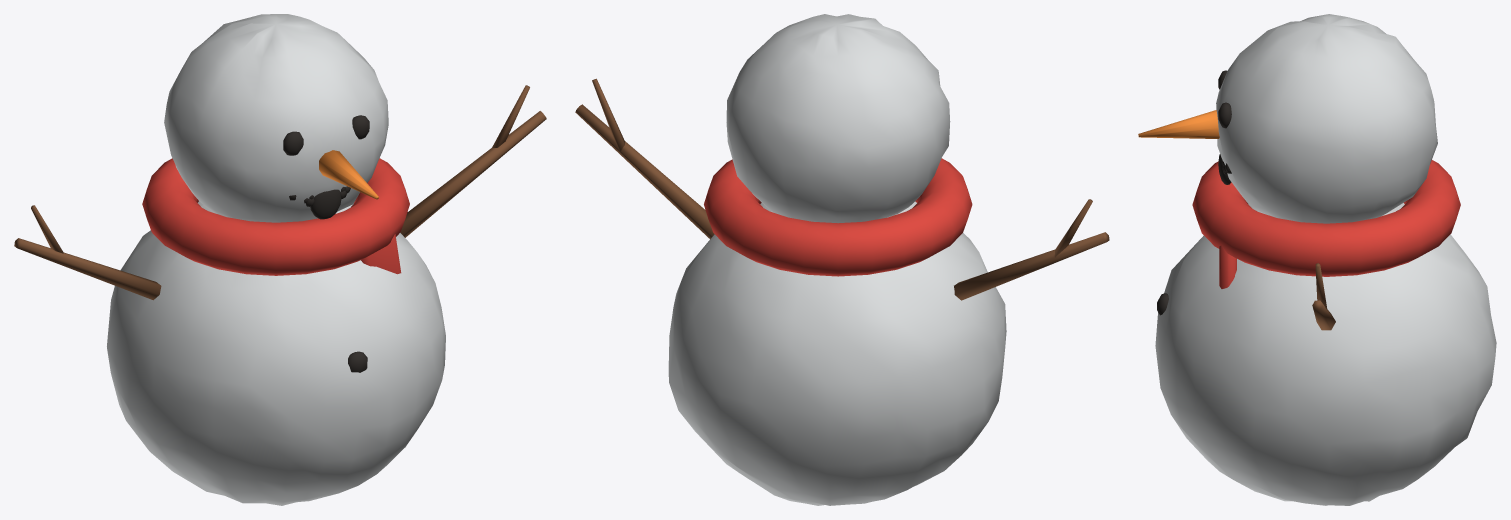
File: event-snowman.glb
3 renders of one model, left to right at view 1: azimuth 30°, elevation 25°; view 2: azimuth 150°, elevation 25°; view 3: azimuth 270°, elevation 25°, orthographic.
Parts seen in each view (by area): view 1: body, head, opt_face_wow; view 2: body, head; view 3: body, head.
Boxes of the visible parts, x1,y1,x2,y2 form: body: (14,85,546,505); head: (142,14,409,275); opt_face_wow: (310,189,341,219); body: (575,78,1109,505); head: (704,14,972,276); body: (1155,203,1496,505); head: (1138,14,1460,288).
Size of the model in its own units: 1.37 by 1.14 by 0.8002.
